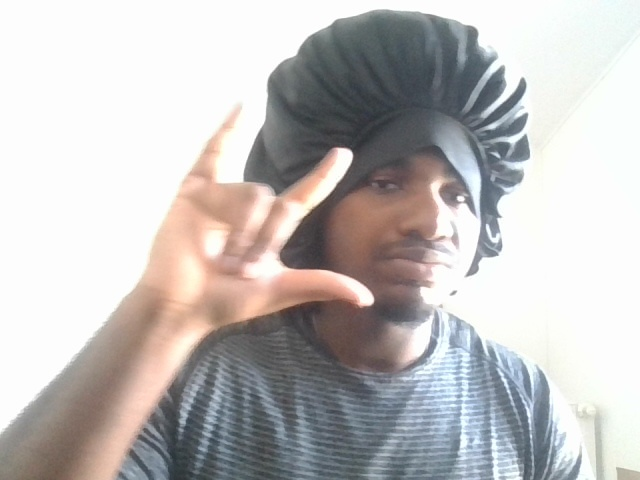I Love You: (126, 77, 376, 326)
